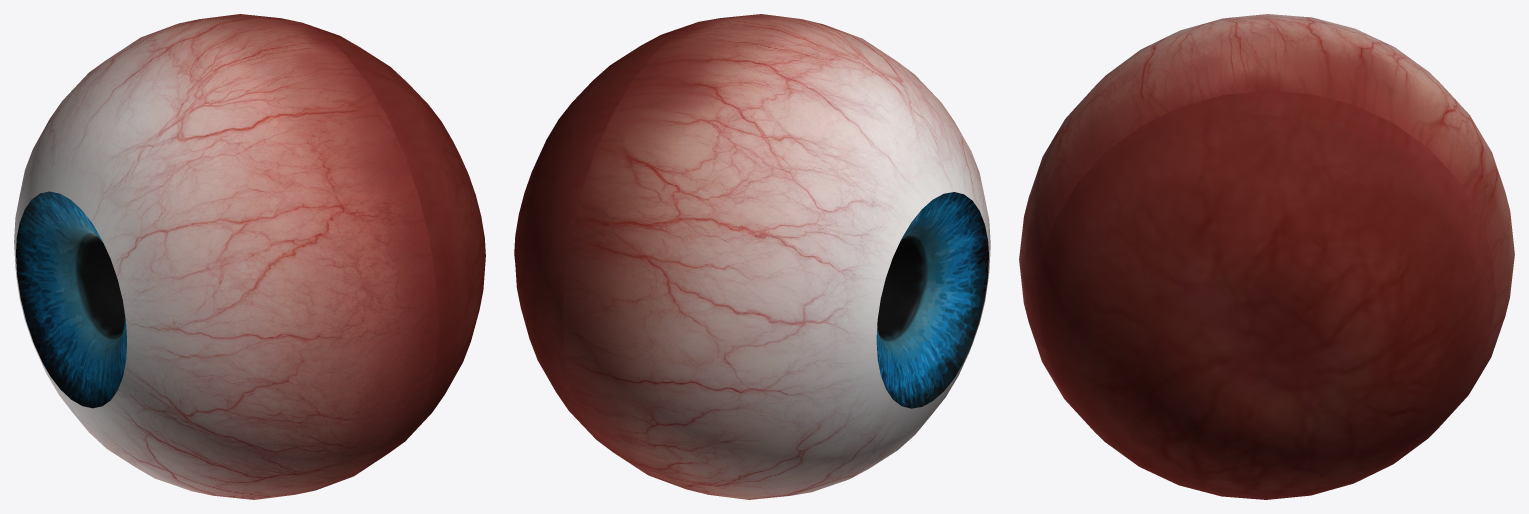
Rendered from judgeRoom1.fbx.
3 renders of one model, left to right at view 1: azimuth 30°, elevation 25°; view 2: azimuth 150°, elevation 25°; view 3: azimuth 270°, elevation 25°, orthographic.
Visible parts, largest first — view 1: Sphere.001; view 2: Sphere.001; view 3: Sphere.001.
Part boxes in pixels (x1,y1,x2,y2): Sphere.001: (14,14,485,499); Sphere.001: (514,14,990,499); Sphere.001: (1019,14,1514,499).
Size of the model in its own units: 656 by 745 by 756.
